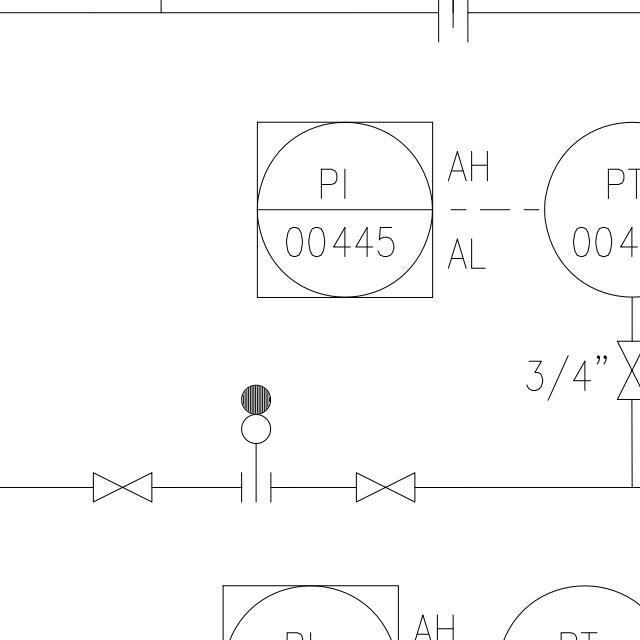GV: (87, 468, 158, 506), (349, 468, 419, 505)
